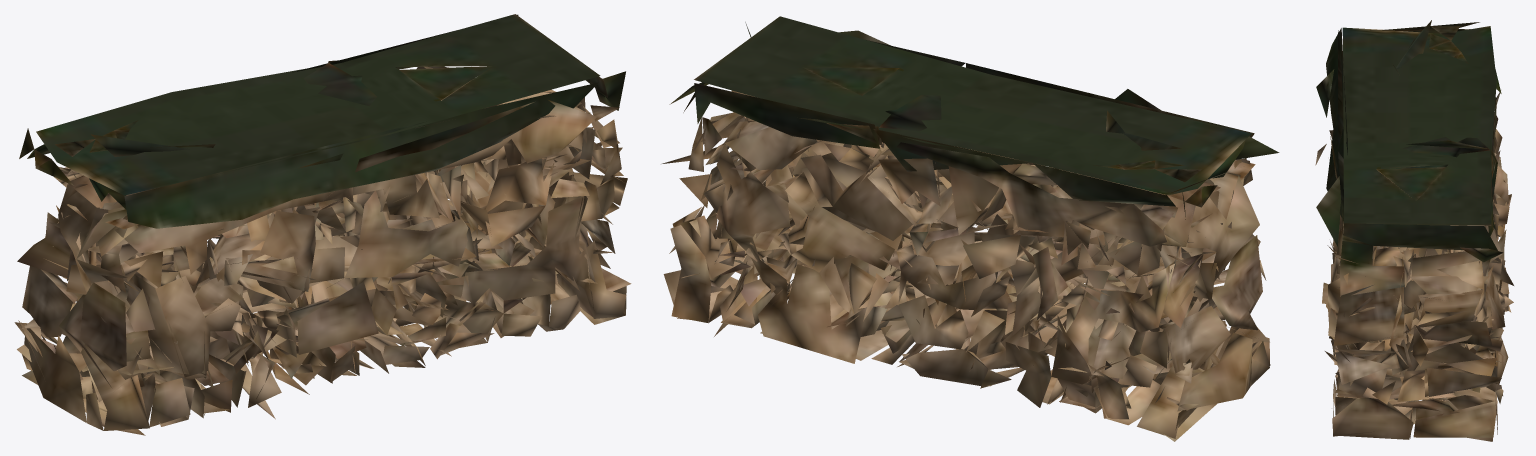
The model's file is wald_holzstapel.glb.
The picture shows the model from 3 angles, left to right: view 1: azimuth 30°, elevation 25°; view 2: azimuth 150°, elevation 25°; view 3: azimuth 270°, elevation 25°; orthographic projection. The views are drawn at different scales.
Parts seen in each view (by area): view 1: Prop; view 2: Prop; view 3: Prop.
Boxes of the visible parts, x1,y1,x2,y2 form: Prop: (14,14,631,435); Prop: (662,16,1279,441); Prop: (1315,20,1513,441).
Bounding box in the file's own units: 2.39 × 1.16 × 0.8934.
Materials: 1 (1 with a texture image).
